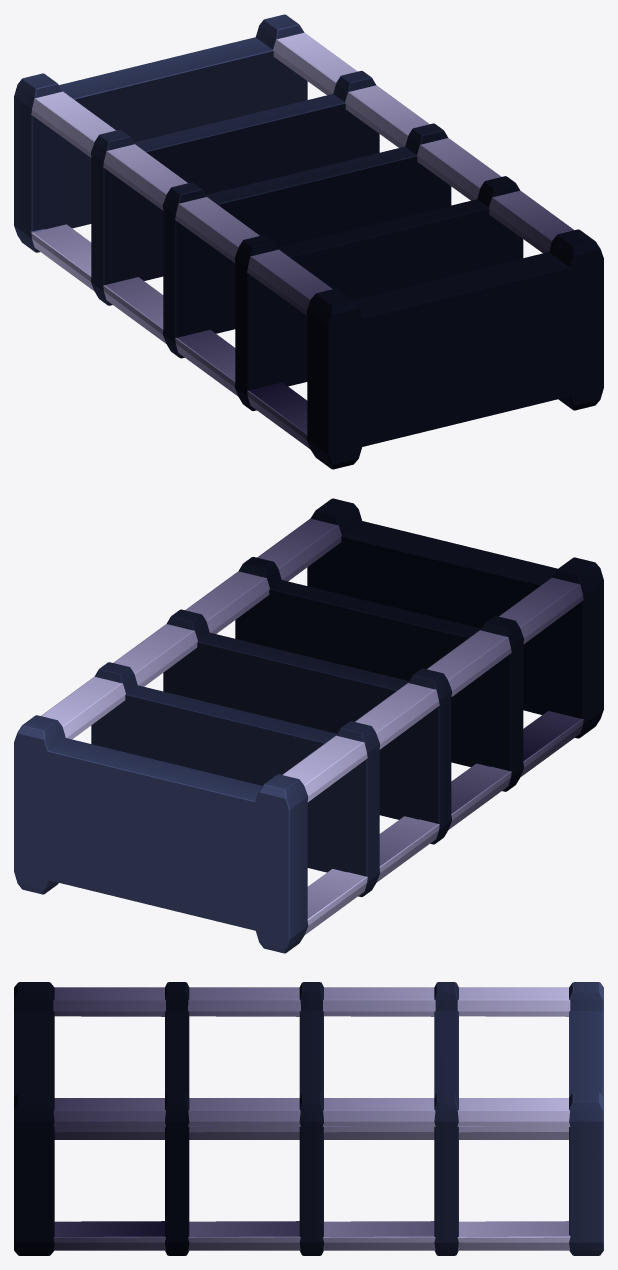
Rendered from Shelf4.fbx.
3 renders of one model, top to bottom at view 1: azimuth 30°, elevation 25°; view 2: azimuth 150°, elevation 25°; view 3: azimuth 270°, elevation 25°, orthographic. The views are drawn at different scales.
Parts seen in each view (by area): view 1: Shelf.048; view 2: Shelf.048; view 3: Shelf.048.
Part boxes in pixels (bbox=[...]): Shelf.048: bbox=[14, 14, 603, 469]; Shelf.048: bbox=[14, 498, 603, 953]; Shelf.048: bbox=[14, 982, 603, 1255].
Bounding box in the file's own units: 87.15 × 49.5 × 172.
1 material, 1 textured.
